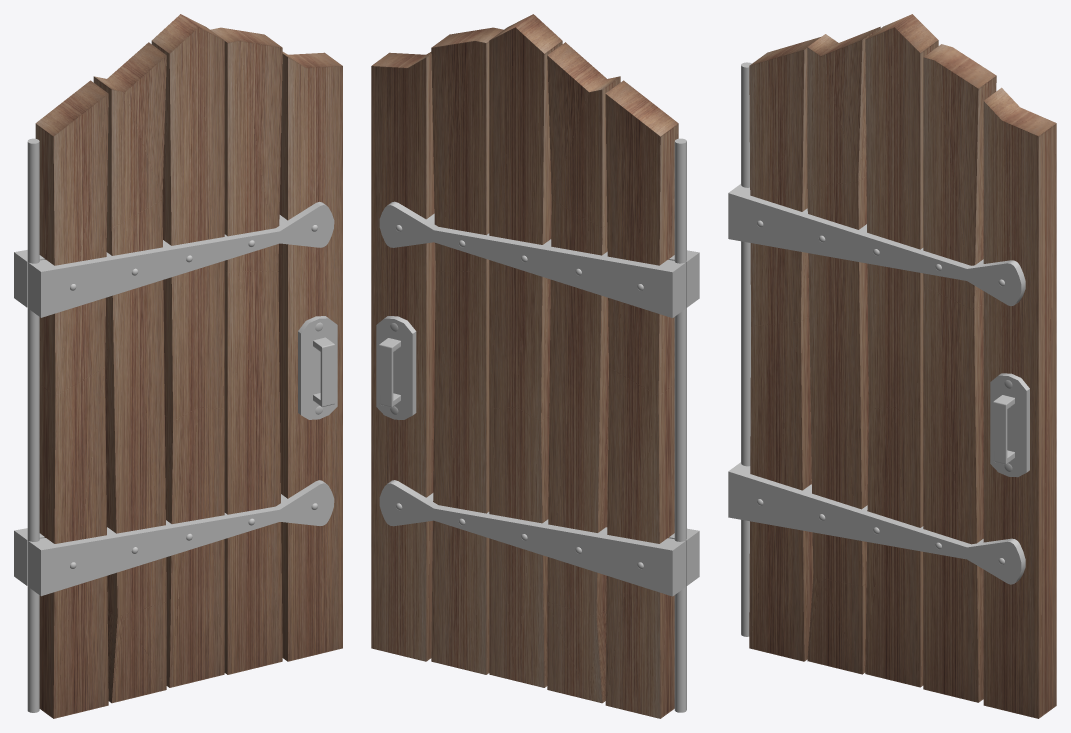
File: CastleDoor.obj
The picture shows the model from 3 angles, left to right: view 1: azimuth 30°, elevation 25°; view 2: azimuth 150°, elevation 25°; view 3: azimuth 330°, elevation 25°; orthographic projection.
Visible parts, largest first — view 1: pCylinder5; view 2: pCylinder5; view 3: pCylinder5.
Part boxes in pixels (x1,y1,x2,y2): pCylinder5: (14, 14, 342, 718); pCylinder5: (371, 14, 699, 718); pCylinder5: (728, 14, 1056, 718).
Size of the model in its own units: 1.4 by 2.87 by 0.3419.
